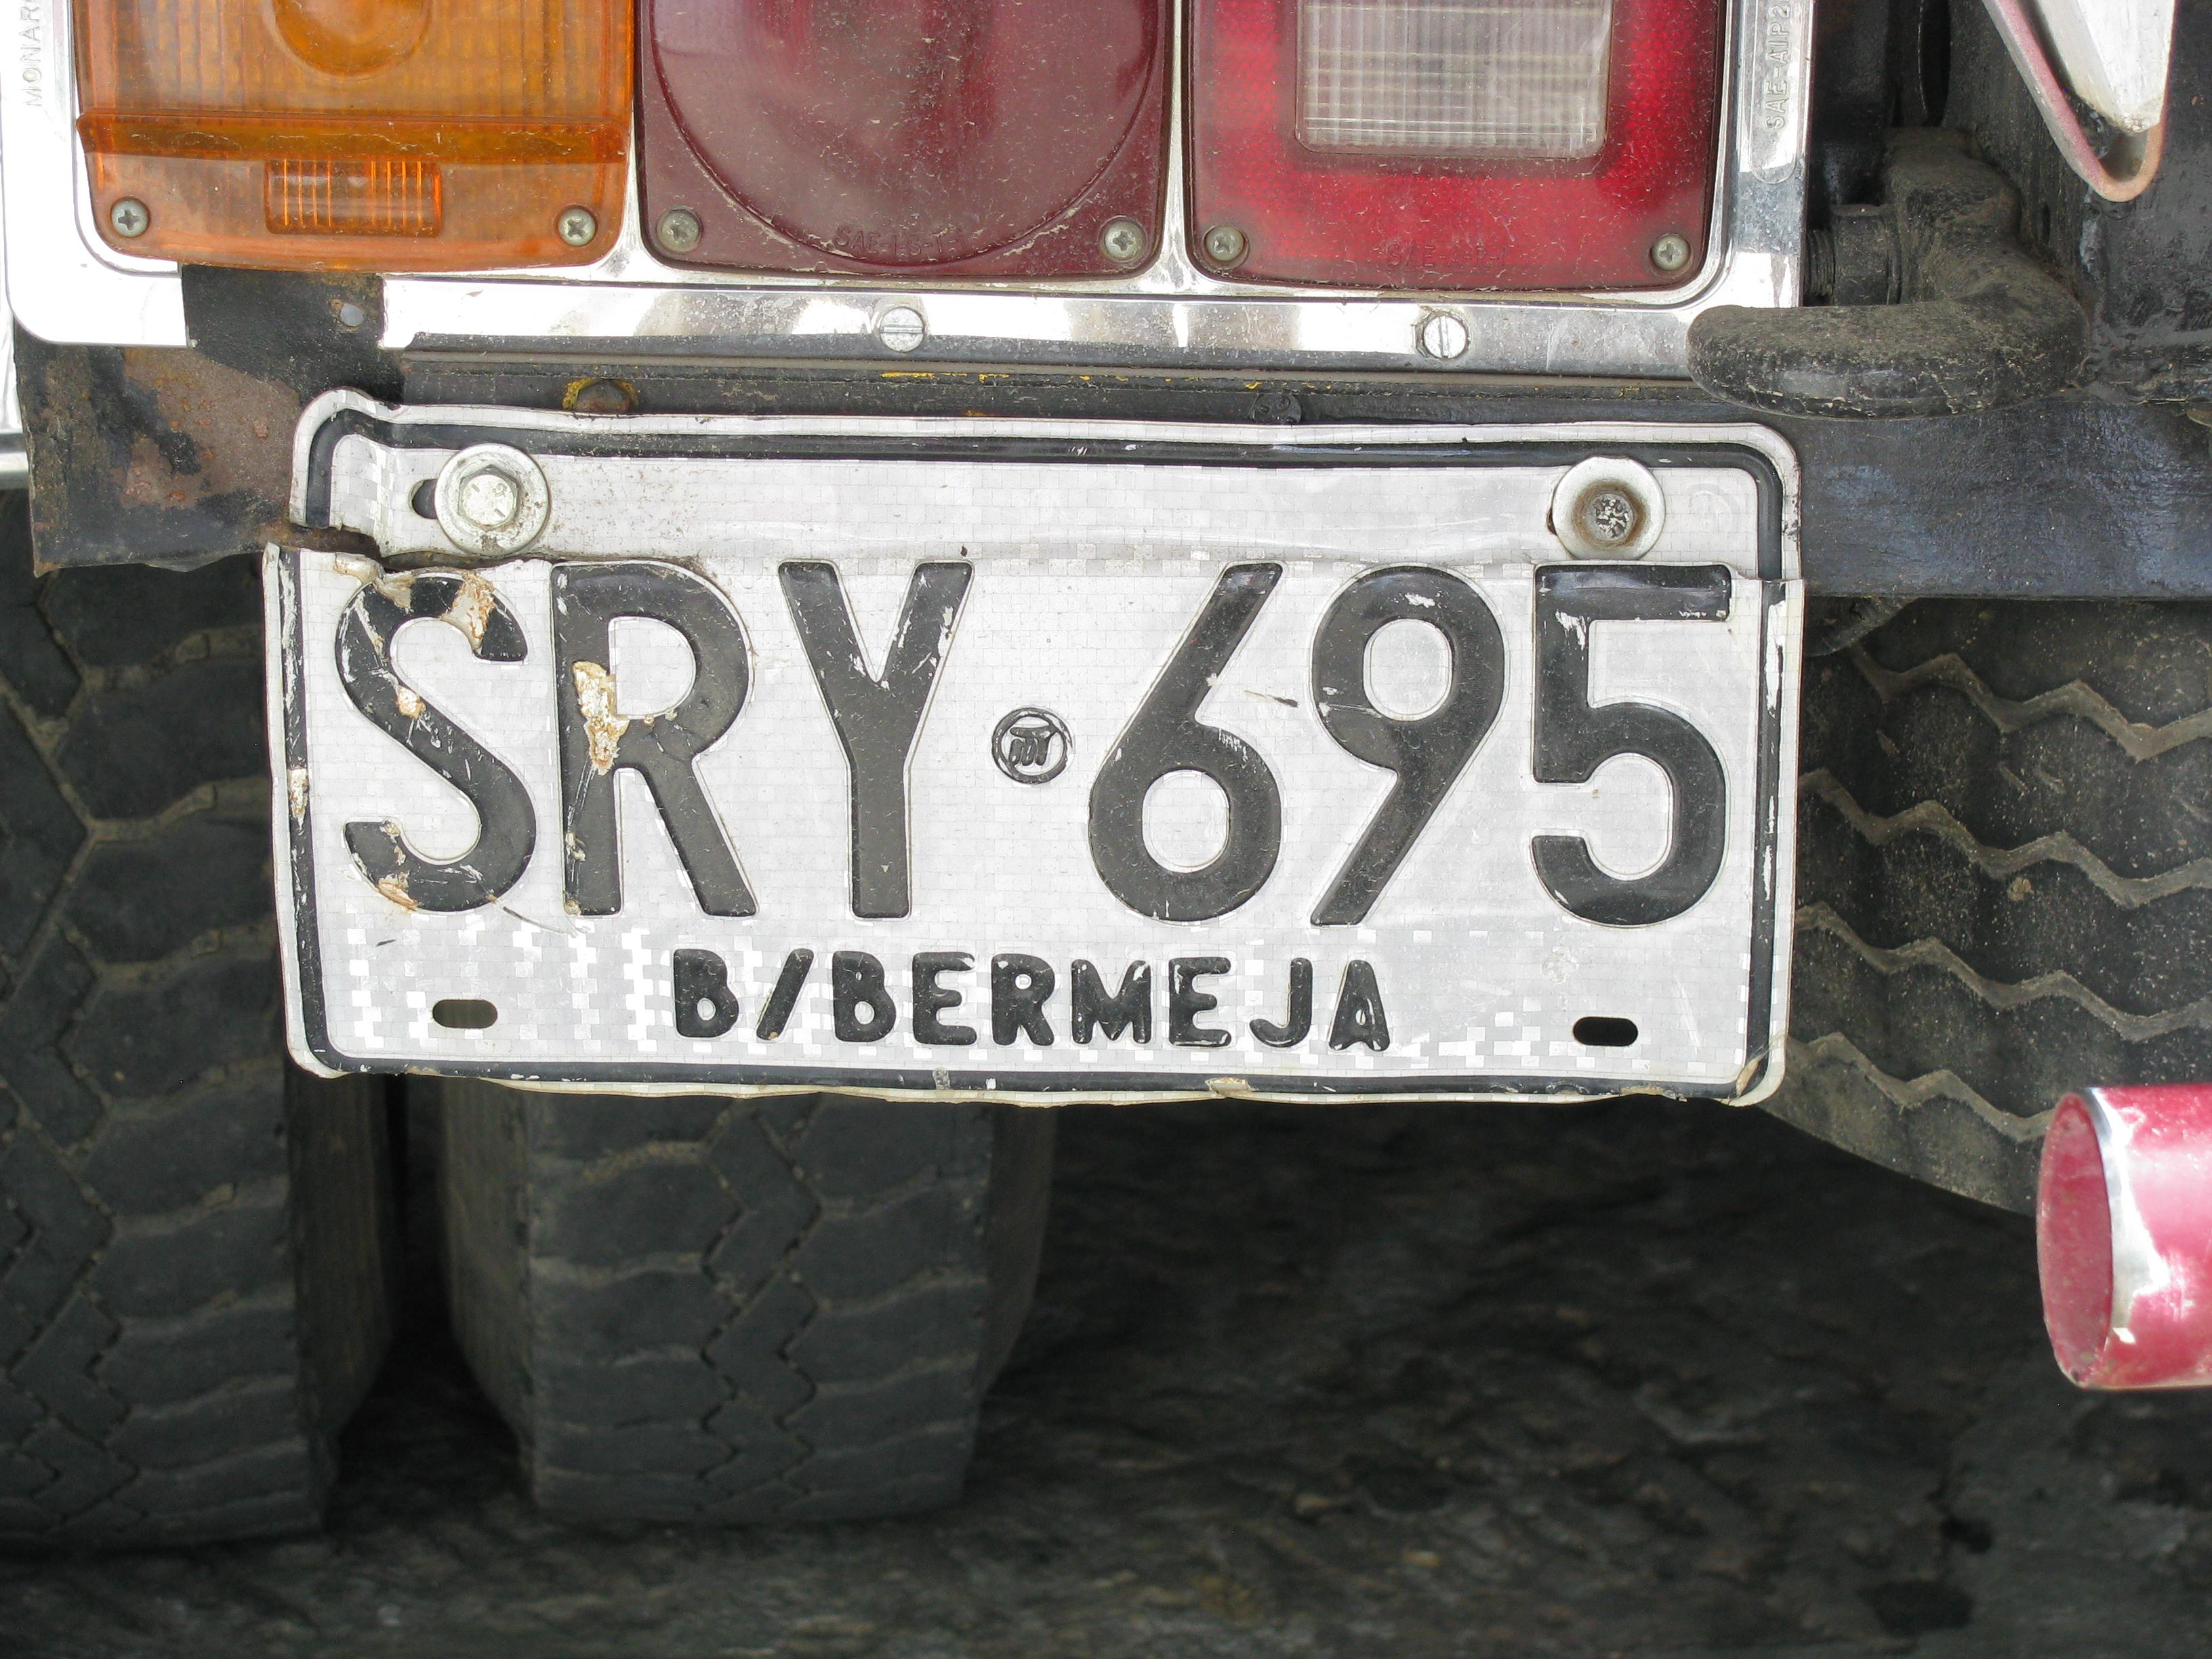placas: (253, 373, 1811, 1115)
